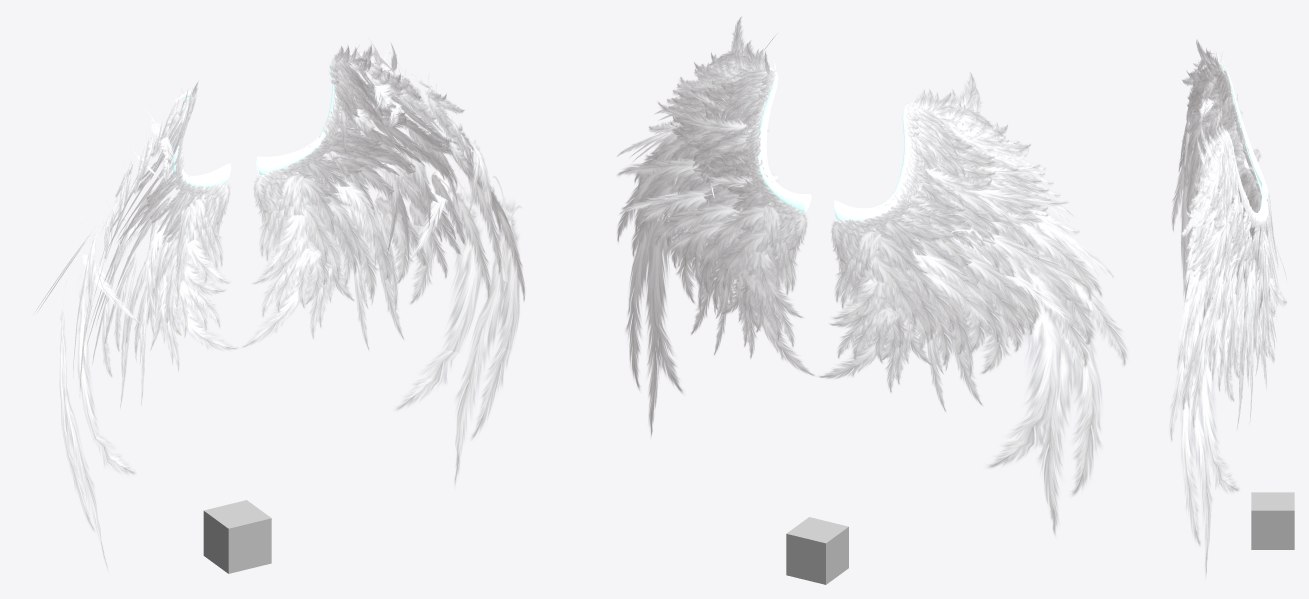
The model's file is CesiumMan.gltf.glb.
3 renders of one model, left to right at view 1: azimuth 30°, elevation 25°; view 2: azimuth 150°, elevation 25°; view 3: azimuth 270°, elevation 25°, orthographic. The views are drawn at different scales.
Parts seen in each view (by area): view 1: polySurface2197, polySurface2631, Cube; view 2: polySurface2631, polySurface2197, Cube; view 3: polySurface2197, polySurface2631, Cube.
Part boxes in pixels (<box>): polySurface2197: <box>242,39,525,486</box>; polySurface2631: <box>35,81,238,570</box>; Cube: <box>203,500,271,573</box>; polySurface2631: <box>818,72,1127,535</box>; polySurface2197: <box>616,16,814,436</box>; Cube: <box>786,517,848,584</box>; polySurface2197: <box>1169,122,1286,577</box>; polySurface2631: <box>1171,39,1286,394</box>; Cube: <box>1251,492,1294,549</box>.
Size of the model in its own units: 26.3 by 24.17 by 6.02.
Materials: 3 (2 with a texture image).
